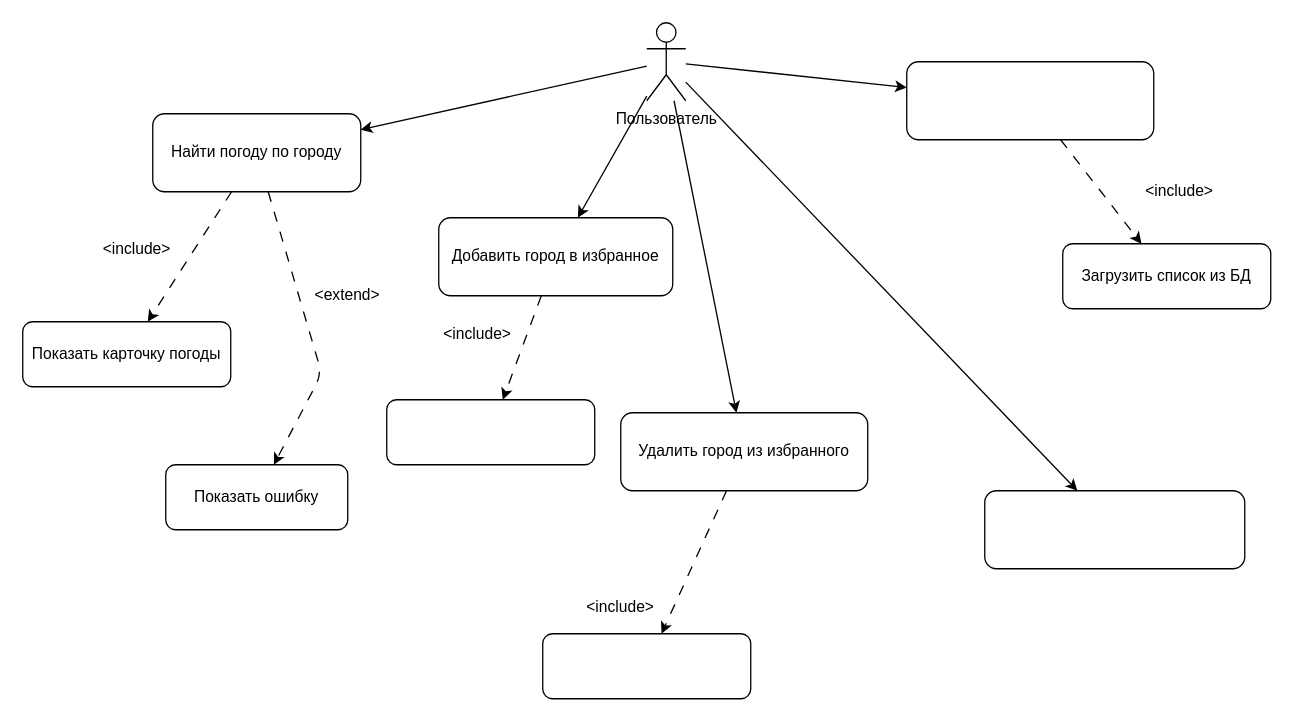
This 1294x722 diagram has some shape labels left out. Each missing label, with the centre of its shape:
"Перейти к погоде из избранного" belongs at [1114,529].
"Просмотреть избранные города" belongs at [1029,100].
"Сохранить в базу данных" belongs at [490,431].
"Удалить из базы данных" belongs at [646,665].
